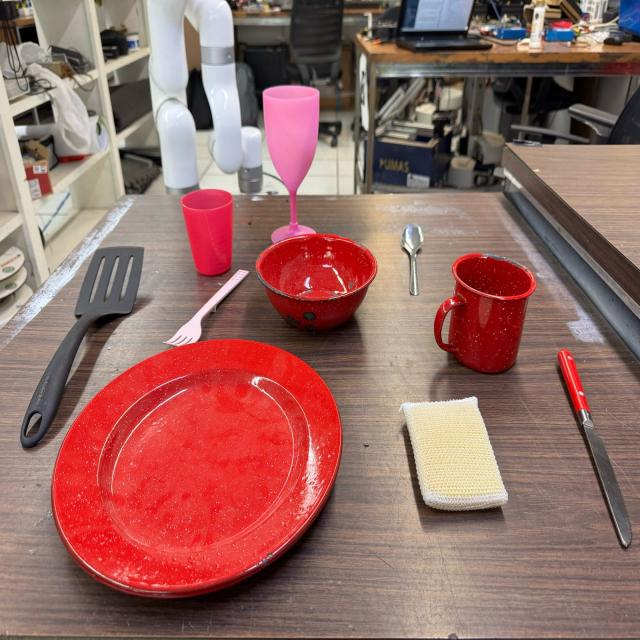cup: (432, 250, 538, 374)
fork: (160, 269, 252, 348)
glass: (180, 188, 235, 276)
knife: (556, 348, 633, 546)
plate: (50, 338, 342, 600)
spatula: (18, 246, 145, 450)
sponge: (400, 398, 509, 512)
spoon: (402, 223, 425, 299)
tazon: (257, 232, 380, 332)
wineglass: (260, 84, 320, 244)
